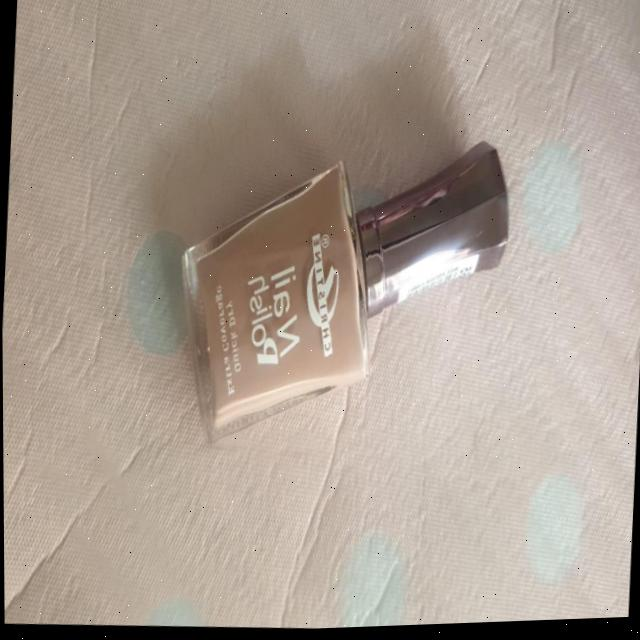nail polish: (159, 80, 521, 465)
